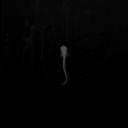fish: (58, 45, 68, 86)
